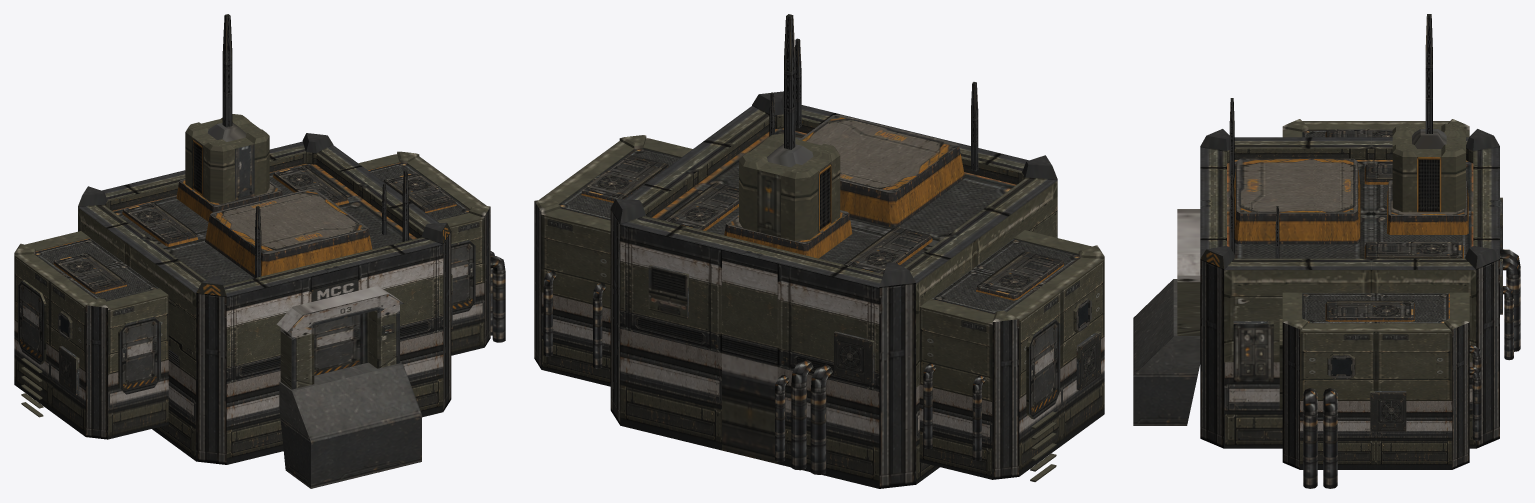
3 renders of one model, left to right at view 1: azimuth 30°, elevation 25°; view 2: azimuth 150°, elevation 25°; view 3: azimuth 270°, elevation 25°, orthographic. The views are drawn at different scales.
Parts seen in each view (by area): view 1: cc; view 2: cc; view 3: cc.
Part boxes in pixels (<box>): cc: <box>14,14,505,488</box>; cc: <box>534,14,1104,488</box>; cc: <box>1133,14,1520,488</box>.
Size of the model in its own units: 40.54 by 29.85 by 32.48.
